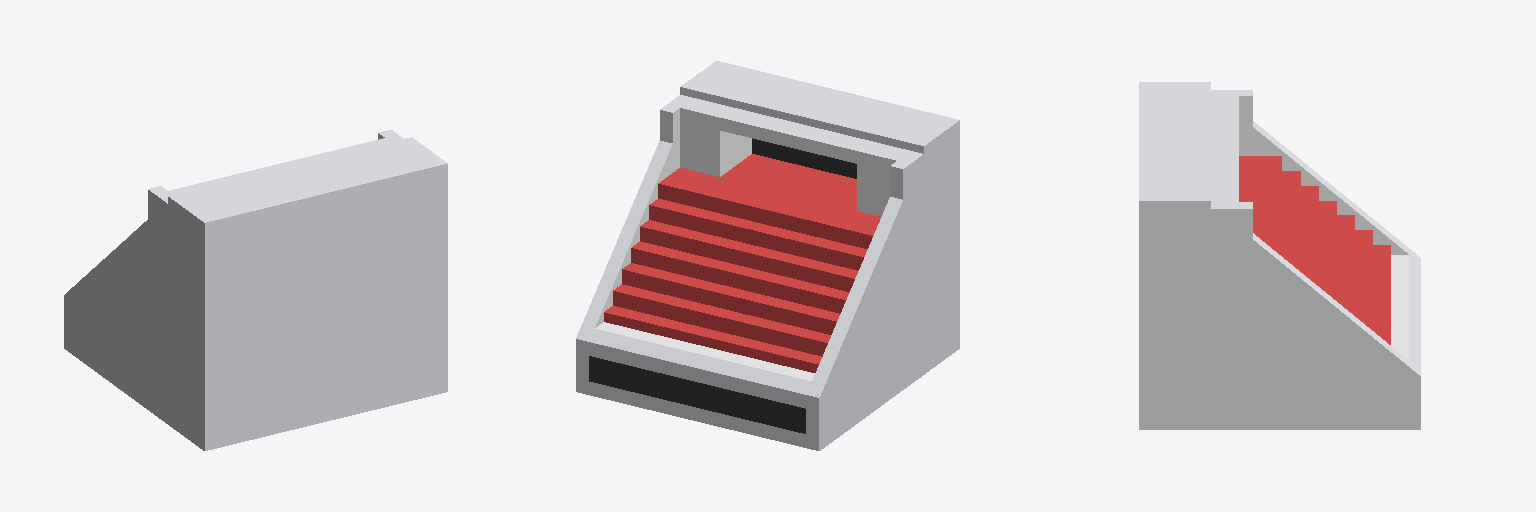
The model's file is grandStand.obj.
3 views of the same model, side by side, from view 1: azimuth 30°, elevation 25°; view 2: azimuth 150°, elevation 25°; view 3: azimuth 270°, elevation 25° (orthographic).
Visible parts, largest first — view 1: grandStand; view 2: grandStand; view 3: grandStand.
Boxes of the visible parts, x1,y1,x2,y2 form: grandStand: [64, 130, 447, 450]; grandStand: [576, 61, 959, 450]; grandStand: [1139, 82, 1420, 429].
Bounding box in the file's own units: 1 × 0.8963 × 1.